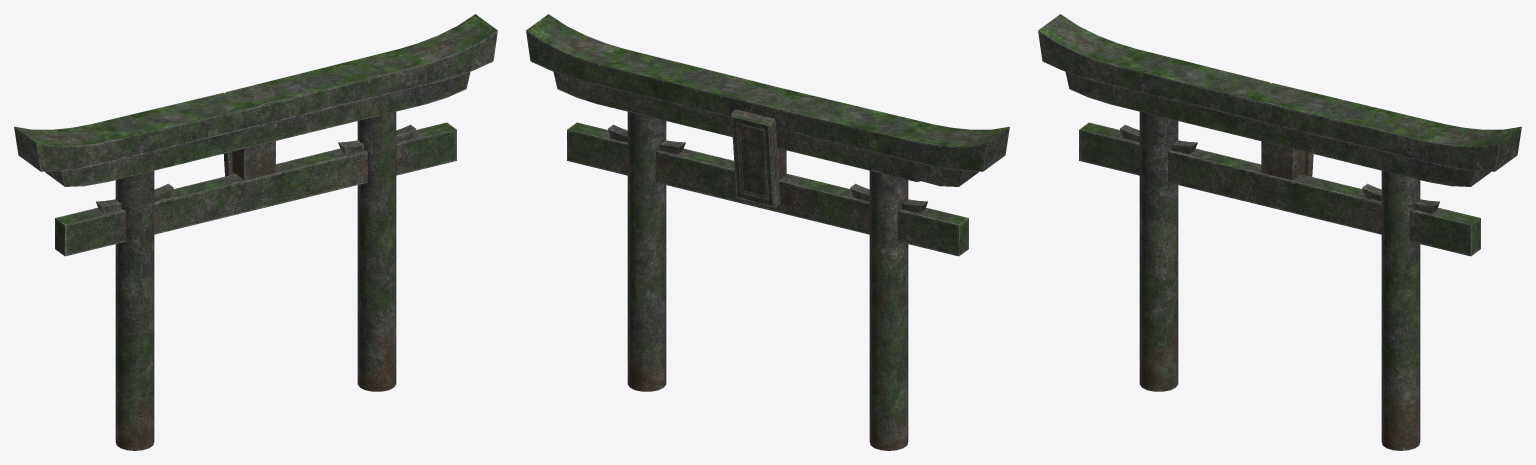
3 renders of one model, left to right at view 1: azimuth 30°, elevation 25°; view 2: azimuth 150°, elevation 25°; view 3: azimuth 330°, elevation 25°, orthographic.
Visible parts, largest first — view 1: Roof_rtop_main_low; view 2: Roof_rtop_main_low; view 3: Roof_rtop_main_low.
Boxes of the visible parts, left/top/right/bottom form: Roof_rtop_main_low: left=14, top=14, right=497, bottom=450; Roof_rtop_main_low: left=526, top=14, right=1009, bottom=450; Roof_rtop_main_low: left=1038, top=14, right=1521, bottom=450.
Size of the model in its own units: 7.86 by 5.45 by 0.8348.
Materials: 1 (1 with a texture image).
